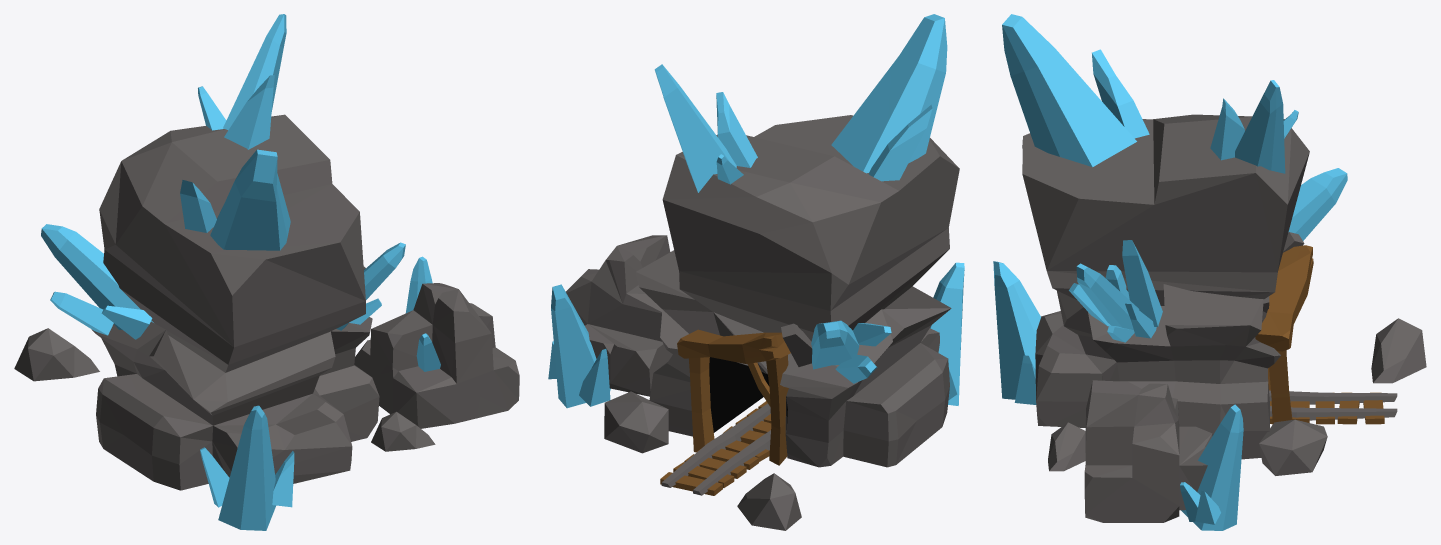
Rendered from mine.fbx.
3 views of the same model, side by side, from view 1: azimuth 30°, elevation 25°; view 2: azimuth 150°, elevation 25°; view 3: azimuth 270°, elevation 25° (orthographic). The views are drawn at different scales.
Parts seen in each view (by area): view 1: Cylinder.015; view 2: Cylinder.015; view 3: Cylinder.015.
Part boxes in pixels (<box>): Cylinder.015: <box>14,14,519,530</box>; Cylinder.015: <box>548,14,964,530</box>; Cylinder.015: <box>993,14,1426,530</box>.
Bounding box in the file's own units: 700 × 700 × 700.
